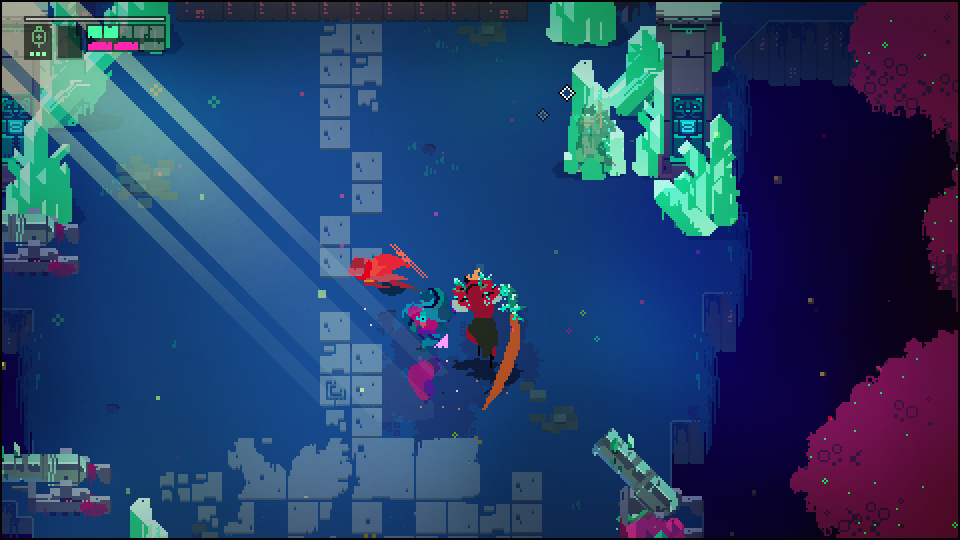hanged_man: (452, 270, 523, 381)
player: (343, 251, 415, 291)
